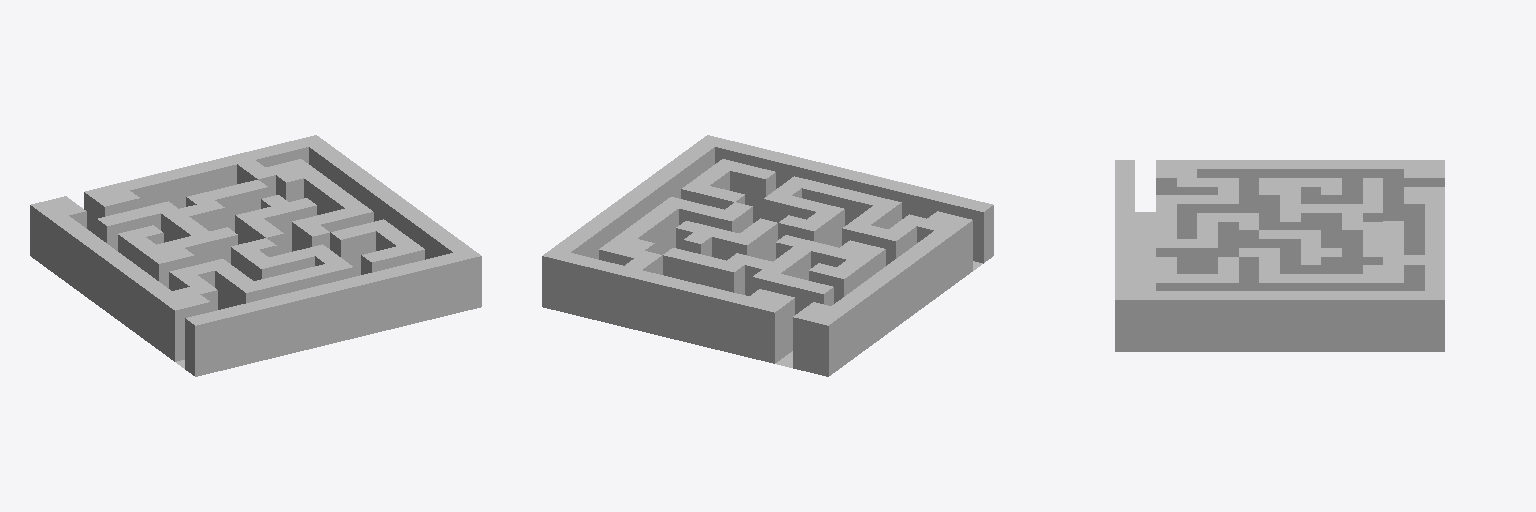
The model's file is maze.obj.
The picture shows the model from 3 angles: view 1: azimuth 30°, elevation 25°; view 2: azimuth 150°, elevation 25°; view 3: azimuth 270°, elevation 25°; orthographic projection.
Parts seen in each view (by area): view 1: Plane; view 2: Plane; view 3: Plane.
Part boxes in pixels (bbox=[...]): Plane: bbox=[30, 135, 481, 376]; Plane: bbox=[542, 135, 993, 376]; Plane: bbox=[1115, 160, 1444, 351].
Bounding box in the file's own units: 2 × 0.3423 × 2.